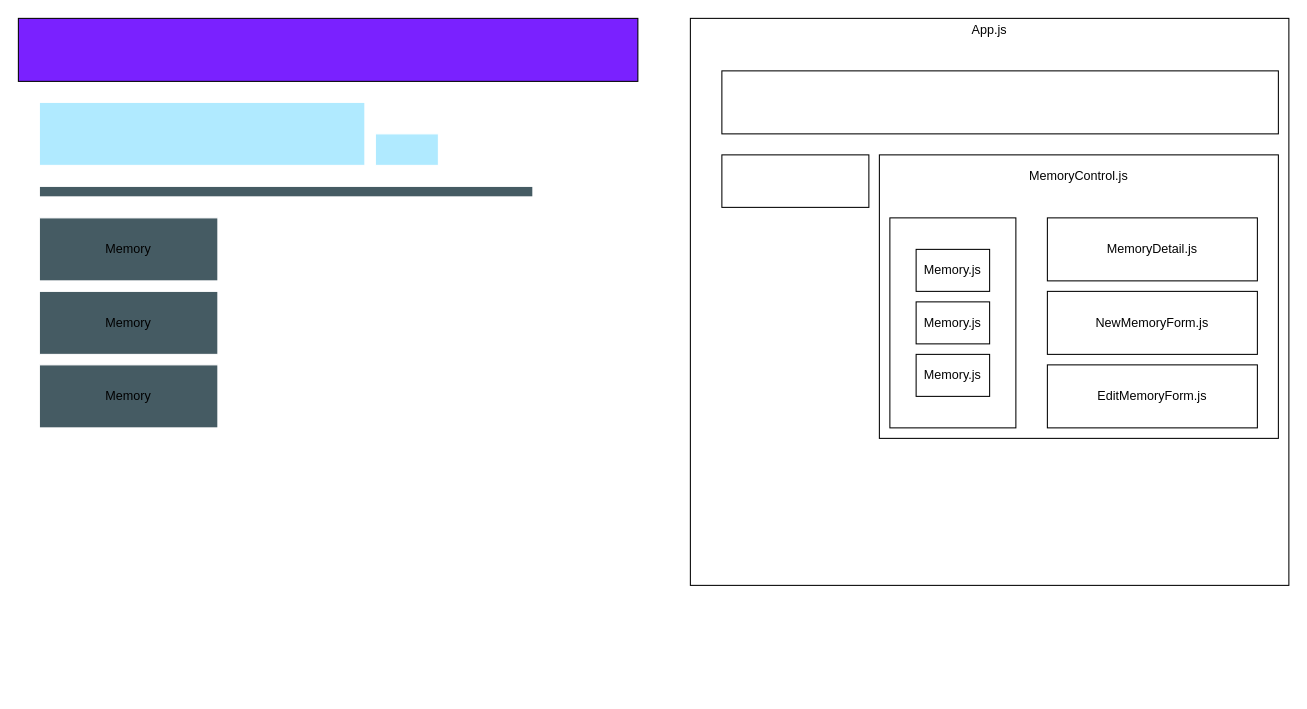
This 1307x709 diagram has some shape labels left out. Here are the shapes that lost their labels. From the top down, the box of each, then its label:
(17, 17, 638, 81): Memory Lane
(721, 70, 1278, 134): Header.js
(38, 101, 365, 165): New Memory Form
(374, 133, 438, 165): POST
(721, 154, 869, 207): Signin.js
(889, 217, 1016, 428): MemoryList.js
